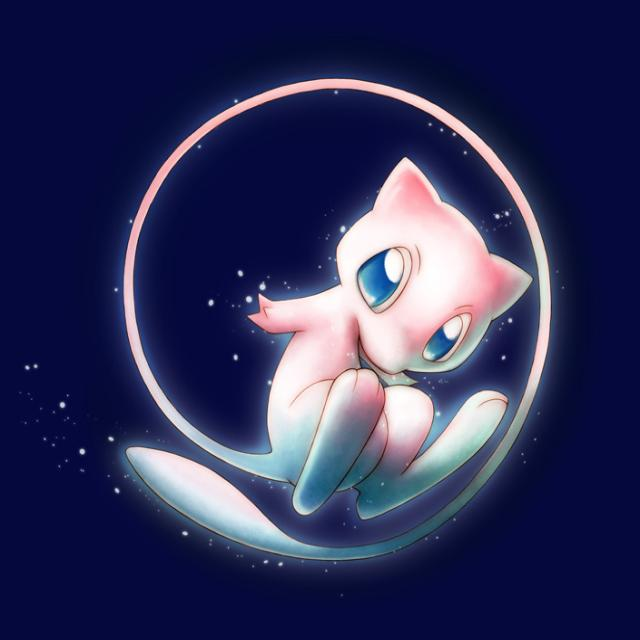Mew: (268, 204, 479, 478)
